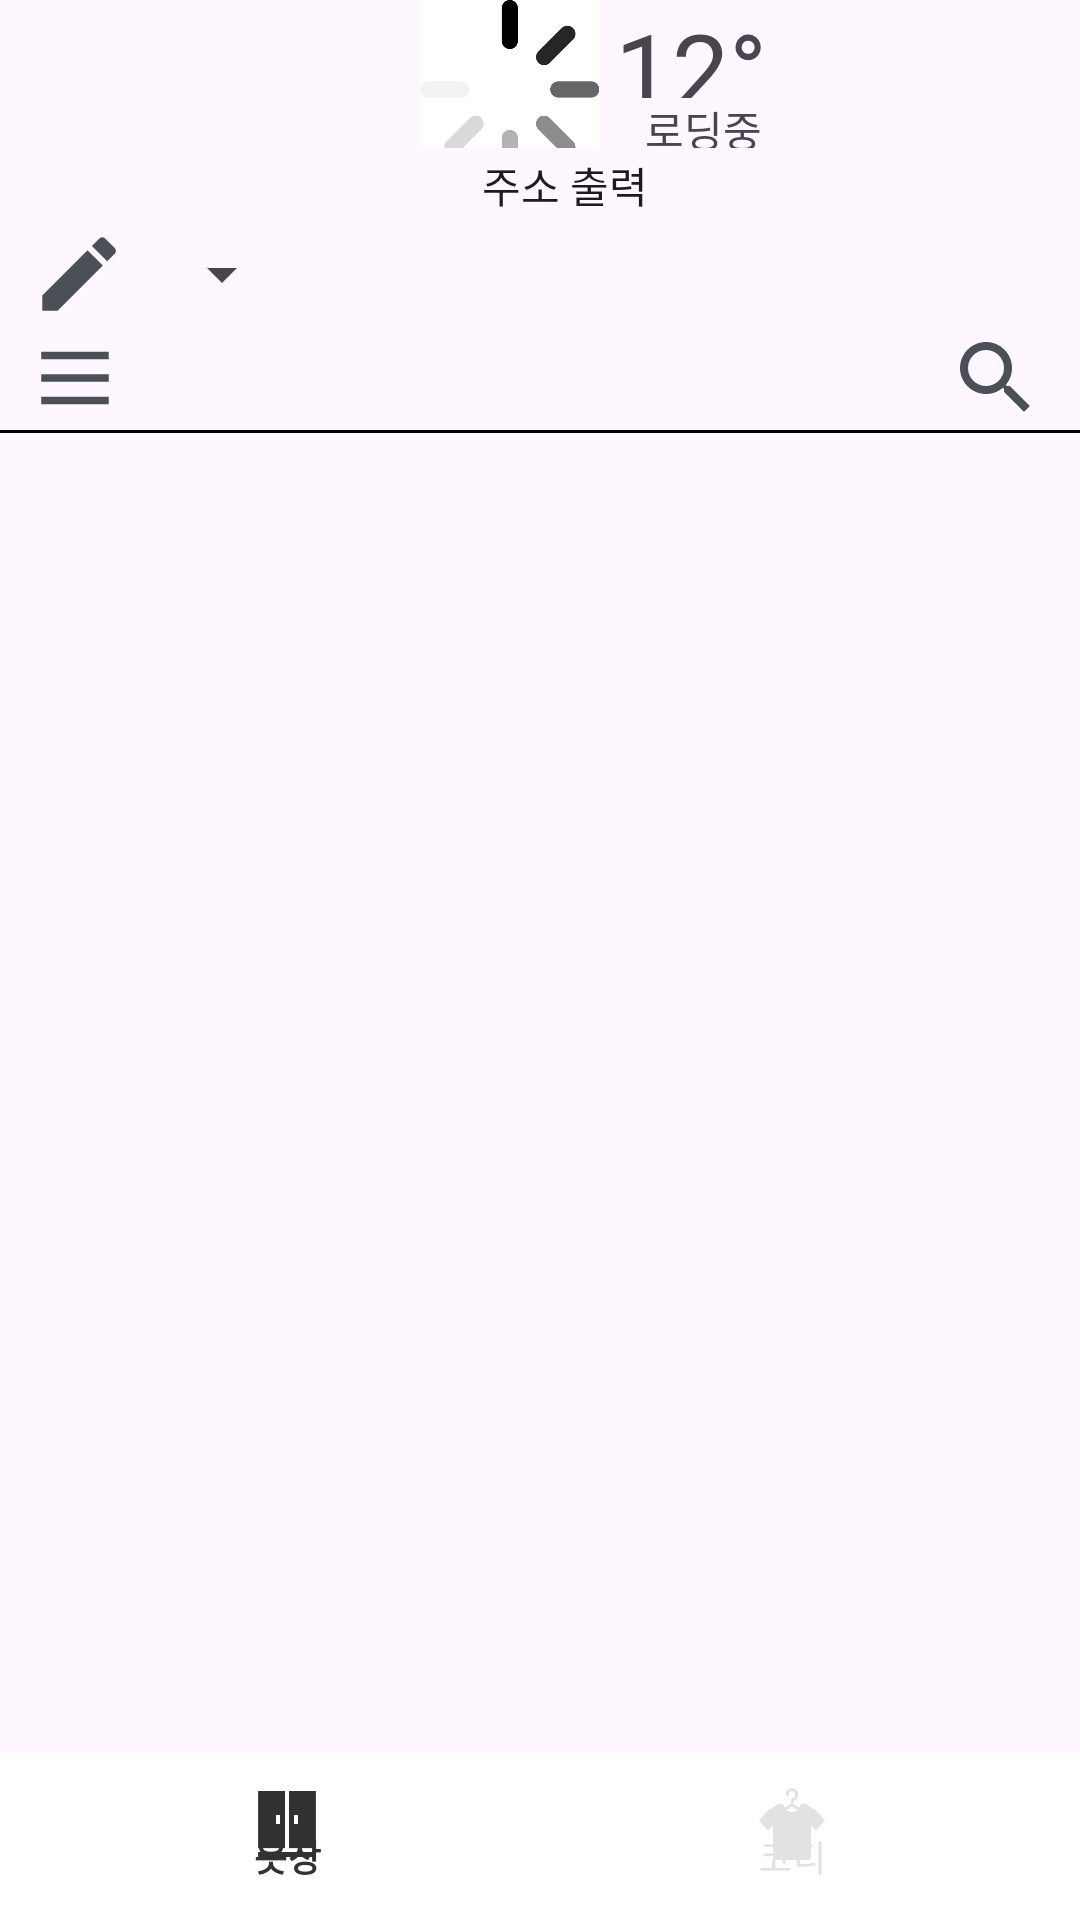

Icon click points for this 1080x1920 phone screenshot, format [x,y]:
modify: [79,274]
